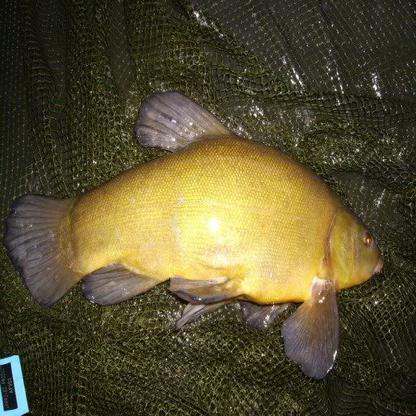fish: (6, 91, 385, 383)
